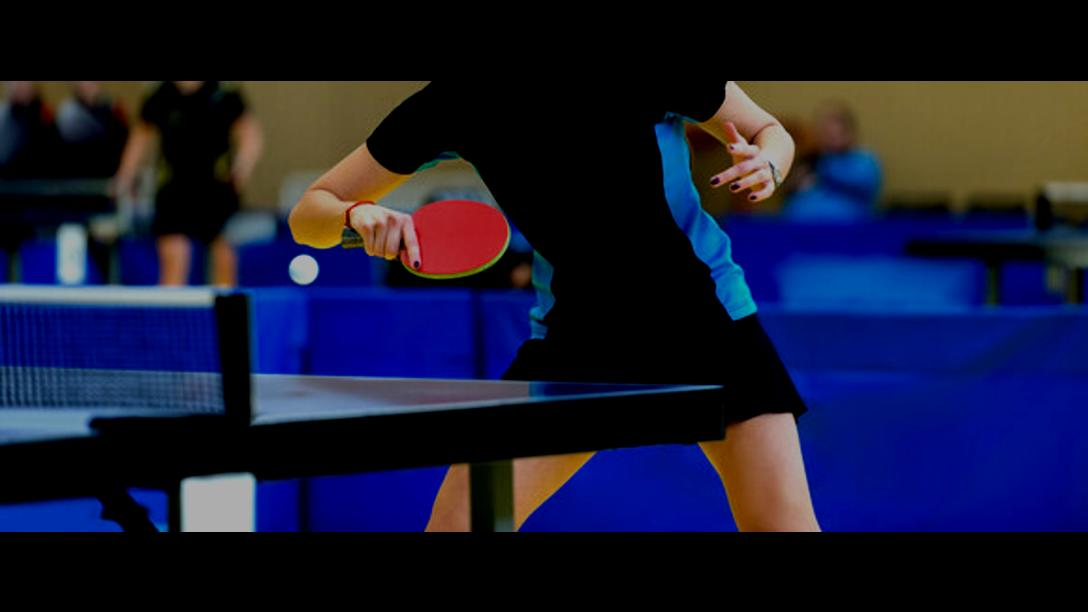Table-Tennis-Ball: (290, 254, 318, 282)
